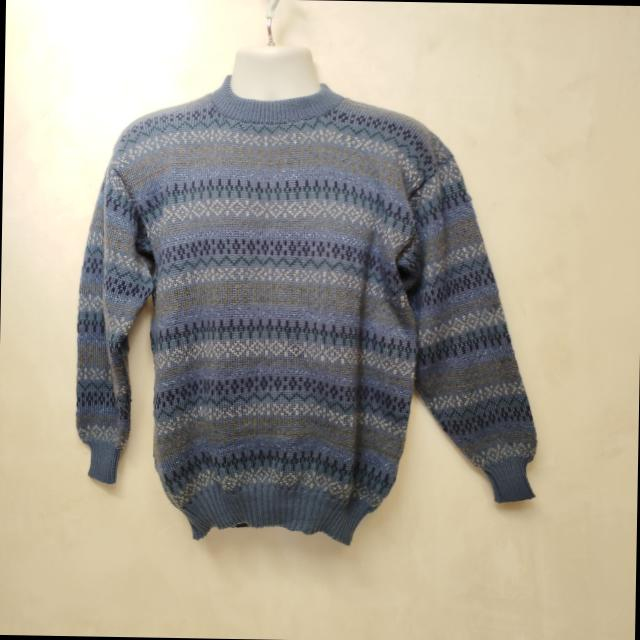Chompa: (72, 57, 544, 550)
